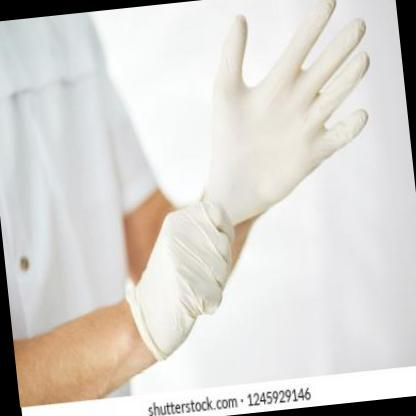Gloves: (180, 0, 386, 231), (116, 195, 246, 367)
